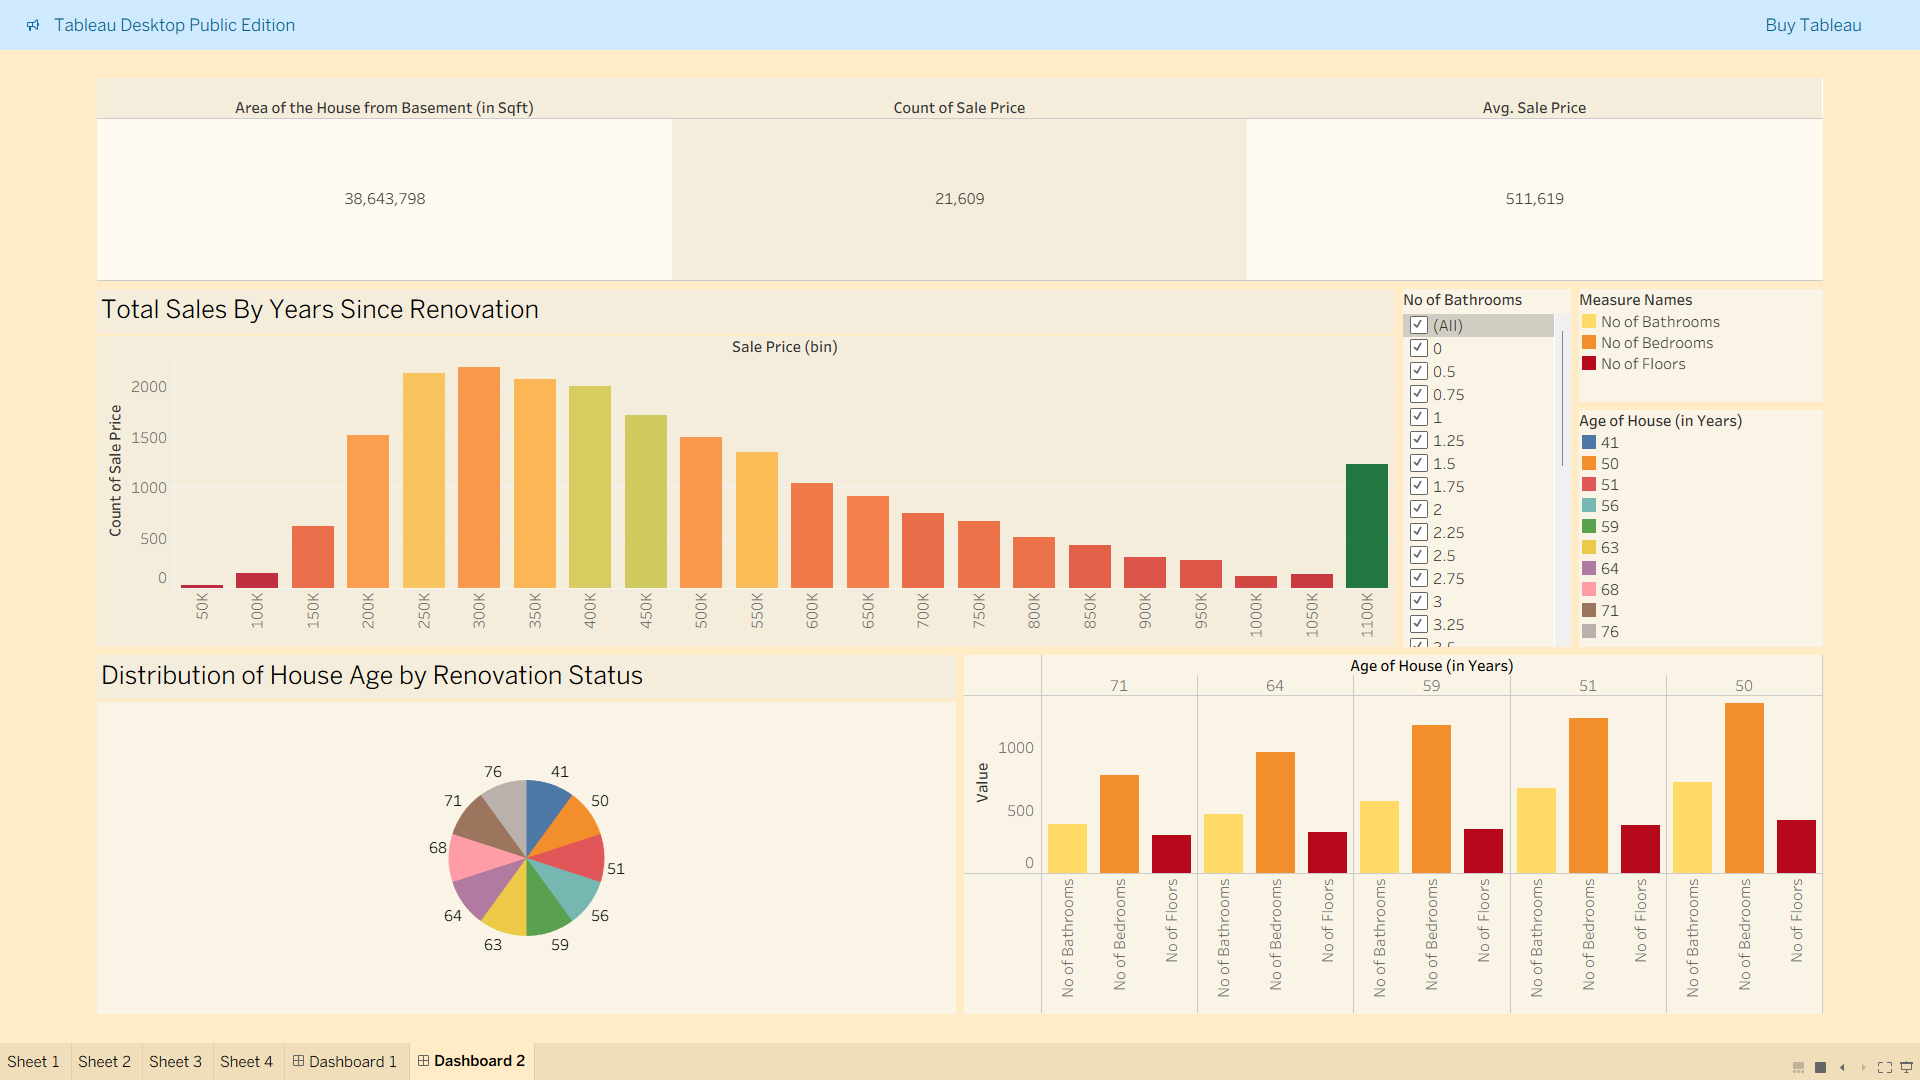

The page's visual inventory and layout, read from the dashboard file:
{"tool":"tableau","page":{"name":"Dashboard 2","canvas":[1000,1000],"units":"permille","ordinal":1},"visuals":[{"type":"worksheet","title":"Sheet 1","mark":"Automatic","box":[7.6,10.5,984.8,218.4]},{"type":"worksheet","title":"Sheet 2","mark":"Automatic","rows":["Sale_Price"],"cols":["Sale Price (bin)"],"box":[7.6,229,741.9,380.3]},{"type":"filter","title":"Sheet 4","param":"[federated.0q9fp5z0d68psc17vippm07rw3tt].[none:No of Bathrooms:ok]","box":[749.5,229,100,380.3]},{"type":"legend","title":"Sheet 4","param":"[federated.0q9fp5z0d68psc17vippm07rw3tt].[:Measure Names]","box":[849.5,229,142.9,126.3]},{"type":"legend","title":"Sheet 3","param":"[federated.0q9fp5z0d68psc17vippm07rw3tt].[none:Age of House (in Years):ok]","box":[849.5,355.3,142.9,254]},{"type":"worksheet","title":"Sheet 3","mark":"Pie","box":[7.6,609.2,492.4,380.3]},{"type":"worksheet","title":"Sheet 4","mark":"Bar","cols":["Age of House (in Years)"],"box":[500,609.2,492.4,380.3]}]}

Visuals, with their boxes on the dashboard's canvas, which has no fixed pixel size, in thousandths of its width and height (x1, y1, x2, y2). These are canvas units, not pixel positions in the 1920x1080 screenshot, which may show the page scaled, cropped or inside an application window:
"Sheet 1" worksheet: pyautogui.locateOnScreen(8, 10, 992, 229)
"Sheet 2" worksheet: pyautogui.locateOnScreen(8, 229, 750, 609)
"Sheet 4" filter: pyautogui.locateOnScreen(750, 229, 850, 609)
"Sheet 4" legend: pyautogui.locateOnScreen(850, 229, 992, 355)
"Sheet 3" legend: pyautogui.locateOnScreen(850, 355, 992, 609)
"Sheet 3" worksheet (Pie marks): pyautogui.locateOnScreen(8, 609, 500, 990)
"Sheet 4" worksheet (Bar marks): pyautogui.locateOnScreen(500, 609, 992, 990)
